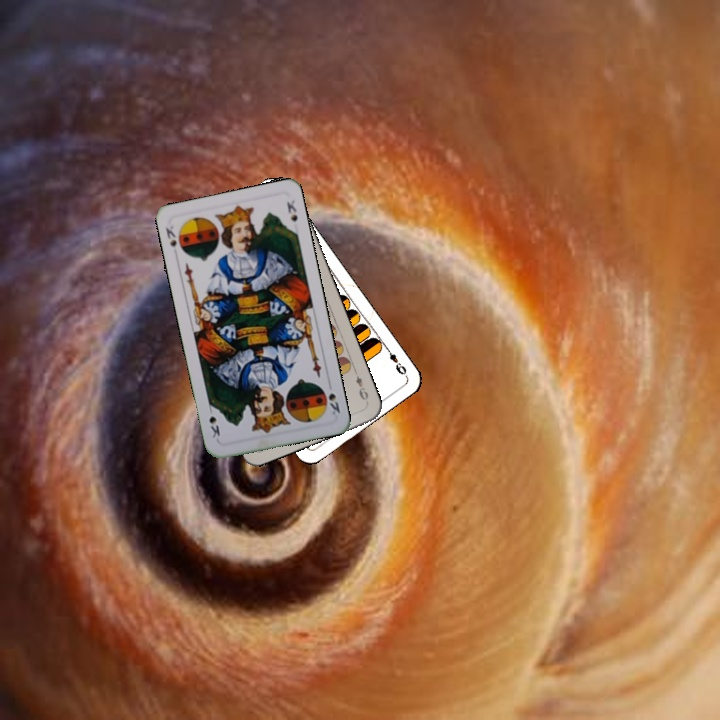E9: (382, 343, 409, 379), (350, 367, 371, 406)
SK: (162, 222, 186, 256), (324, 389, 343, 417)
